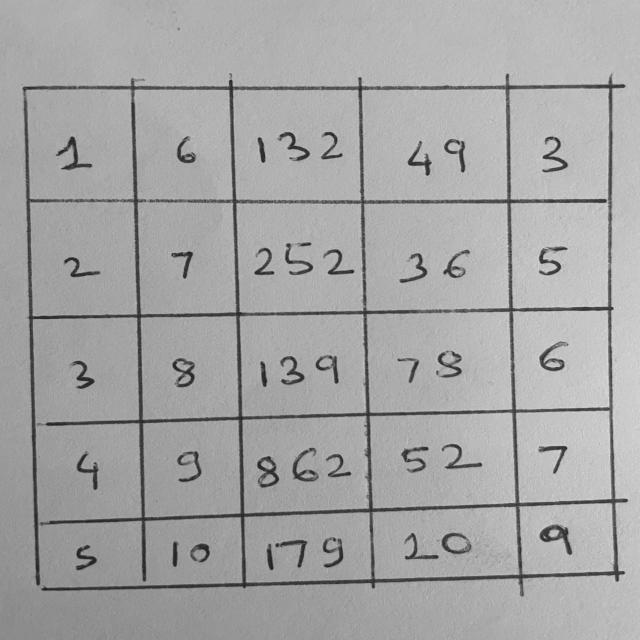Number: (246, 238, 356, 284), (251, 443, 354, 490), (250, 127, 346, 166), (398, 132, 474, 181), (254, 349, 343, 390), (260, 533, 350, 573), (392, 246, 477, 285), (392, 347, 474, 387), (392, 440, 482, 476), (399, 526, 478, 564), (48, 132, 102, 176), (533, 129, 573, 179), (65, 447, 106, 494), (534, 521, 582, 561), (164, 535, 215, 571), (534, 240, 575, 282), (167, 447, 208, 488), (58, 250, 106, 284), (168, 128, 202, 171), (532, 338, 570, 375), (63, 355, 99, 394), (534, 440, 570, 479), (167, 352, 200, 393), (65, 539, 101, 575), (166, 245, 198, 281)
